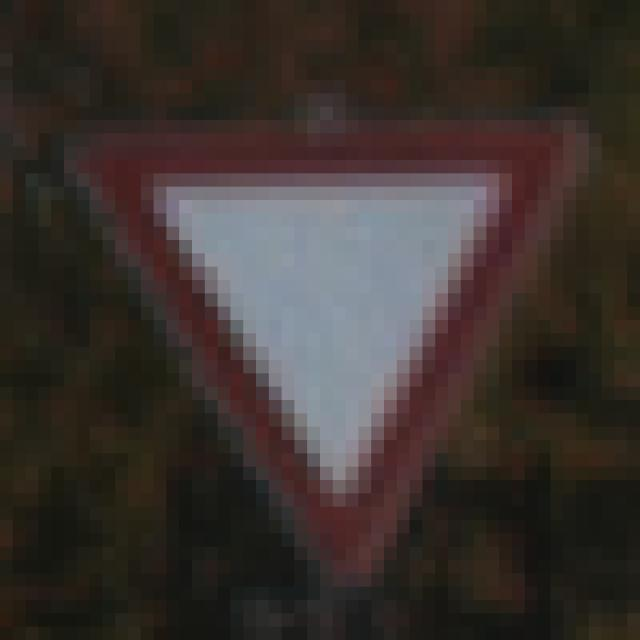Give Way: (65, 81, 564, 561)
